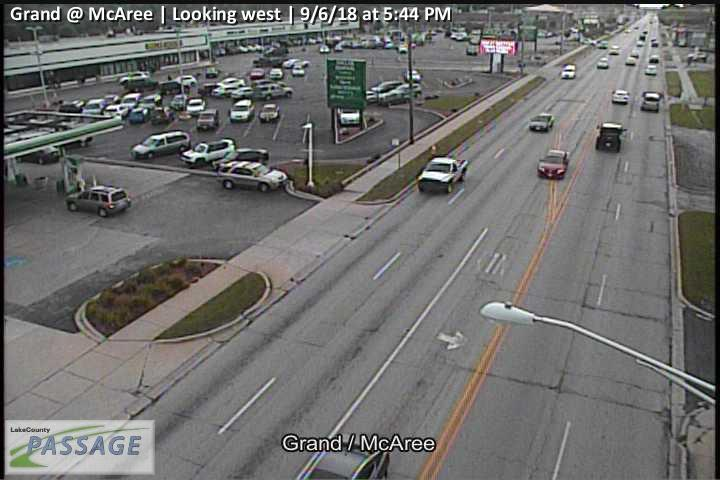SUV: (217, 159, 288, 193), (64, 186, 129, 217), (130, 131, 191, 163), (181, 138, 235, 171), (381, 83, 421, 105), (370, 77, 403, 98), (230, 99, 254, 122), (640, 92, 660, 111)
Sedan: (595, 122, 627, 152), (537, 149, 569, 178), (529, 112, 553, 131), (337, 108, 359, 124), (260, 103, 279, 121), (197, 110, 217, 127), (186, 97, 206, 113), (611, 89, 629, 104), (230, 86, 254, 97), (561, 64, 575, 79), (250, 68, 264, 78), (405, 70, 420, 79), (270, 68, 282, 79), (597, 57, 608, 68), (645, 65, 657, 75), (292, 66, 305, 75), (465, 46, 478, 54), (625, 56, 636, 64), (648, 55, 660, 62), (598, 41, 608, 48), (609, 50, 618, 54)
Truck: (417, 156, 468, 192)
